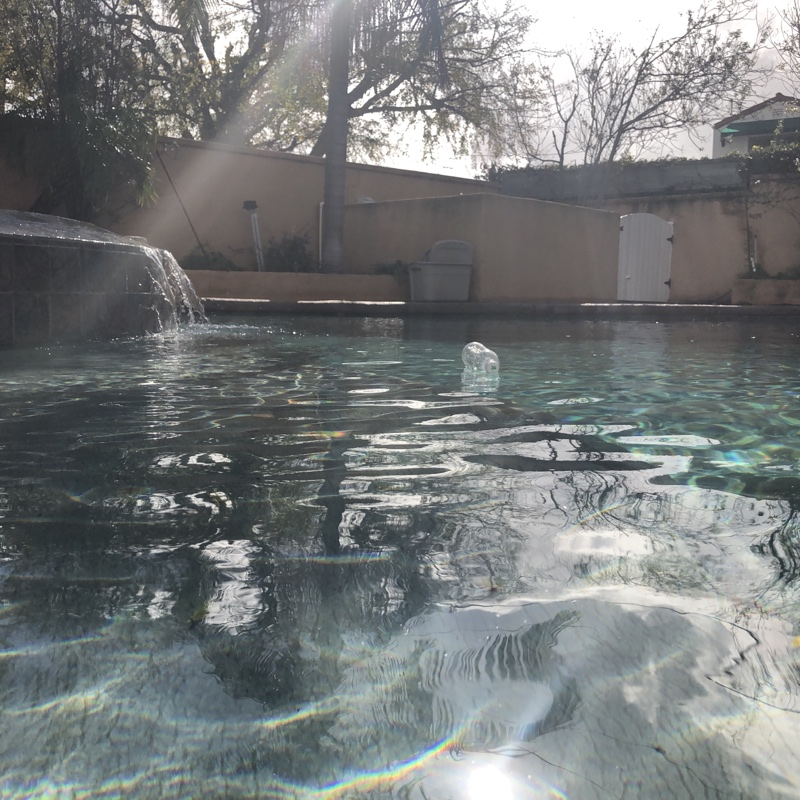Plastic Bottle: (458, 339, 502, 381)
